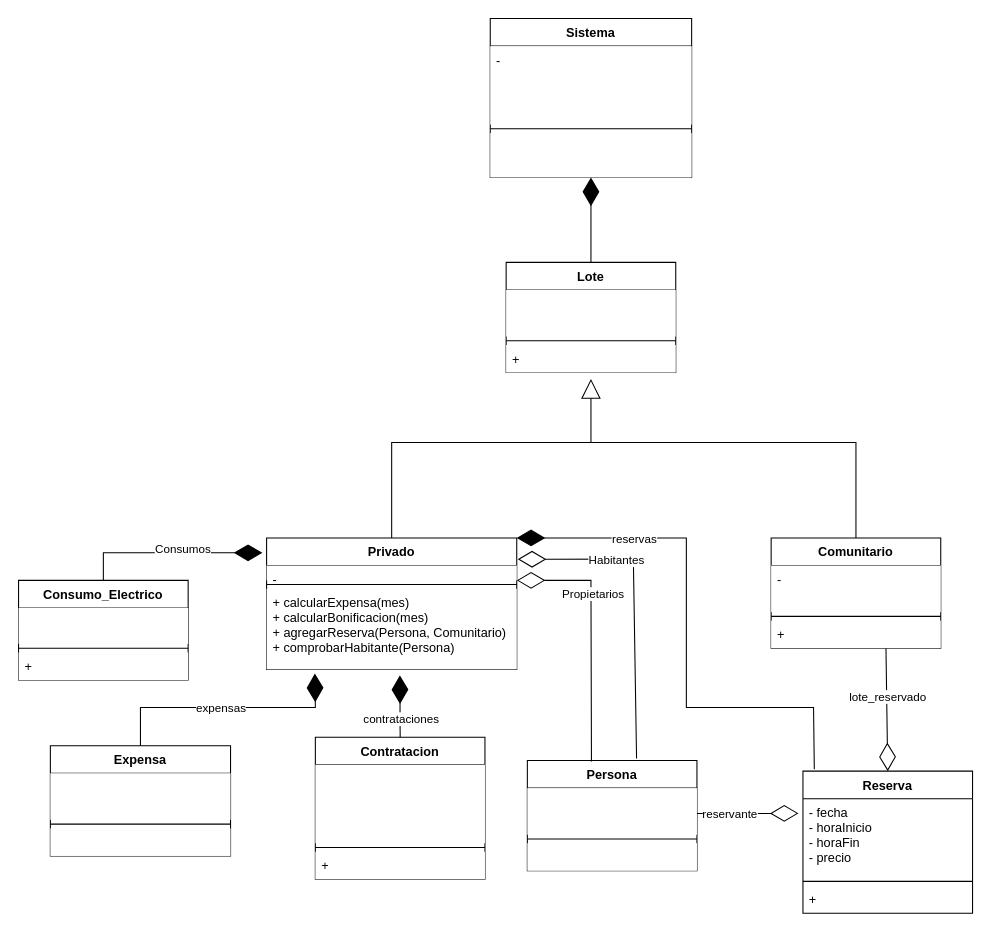
The diagram is 991 pixels wide and 935 high, and some of its shapes have lost their labels. Each missing label, with the centre of its shape:
+calcular_expensa(mes, nLote): (590,154)
- medicion - fecha: (103,625)
- mes: int - monto: float - pagado: bool: (140,796)
- NLote : int - area: float: (590,312)
- nombre - DNI: (611,811)
- tipo_servicio - empresa - fecha - costo: (399,803)
